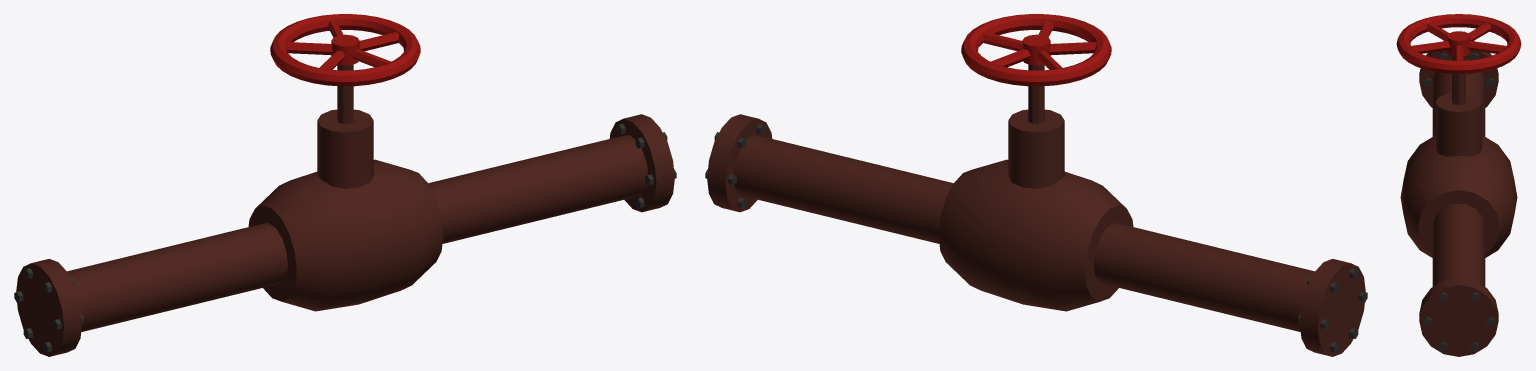
File: PipeValve.fbx
3 views of the same model, side by side, from view 1: azimuth 30°, elevation 25°; view 2: azimuth 150°, elevation 25°; view 3: azimuth 270°, elevation 25° (orthographic). The views are drawn at different scales.
Visible parts, largest first — view 1: PipeValve_Pipe, PipeValve_Valve, PipeValve_Bolts; view 2: PipeValve_Pipe, PipeValve_Valve, PipeValve_Bolts; view 3: PipeValve_Pipe, PipeValve_Valve, PipeValve_Bolts.
Boxes of the visible parts, <box> form: PipeValve_Pipe: <box>16,64,674,356</box>; PipeValve_Valve: <box>270,14,420,86</box>; PipeValve_Bolts: <box>14,123,676,352</box>; PipeValve_Pipe: <box>707,64,1365,356</box>; PipeValve_Valve: <box>961,14,1111,86</box>; PipeValve_Bolts: <box>705,123,1367,352</box>; PipeValve_Pipe: <box>1400,41,1517,356</box>; PipeValve_Valve: <box>1396,14,1521,73</box>; PipeValve_Bolts: <box>1423,52,1494,351</box>.
Bounding box in the file's own units: 1.01 × 0.405 × 0.214.
